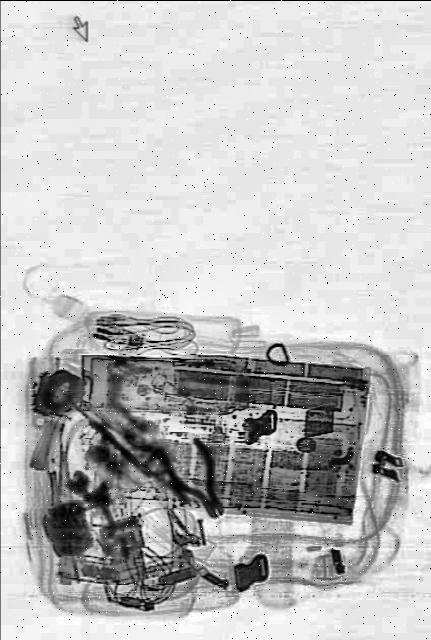Pliers: (164, 432, 236, 536)
